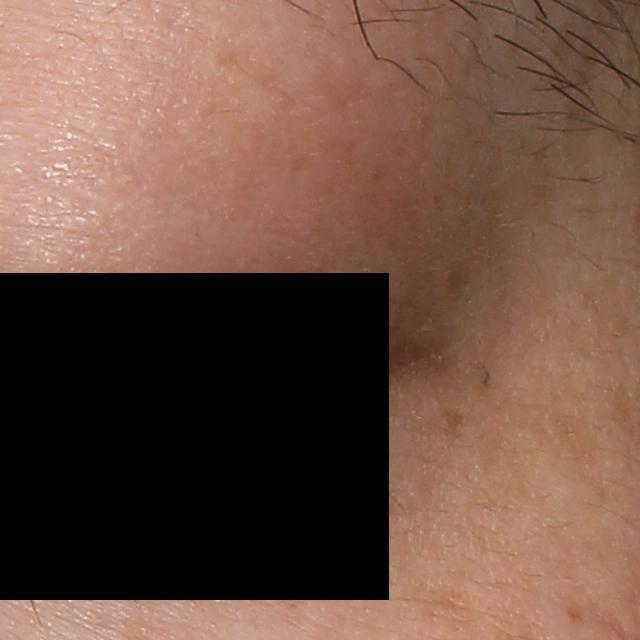melasma: (539, 383, 616, 511), (407, 583, 485, 633), (433, 253, 477, 303), (432, 409, 469, 449)
